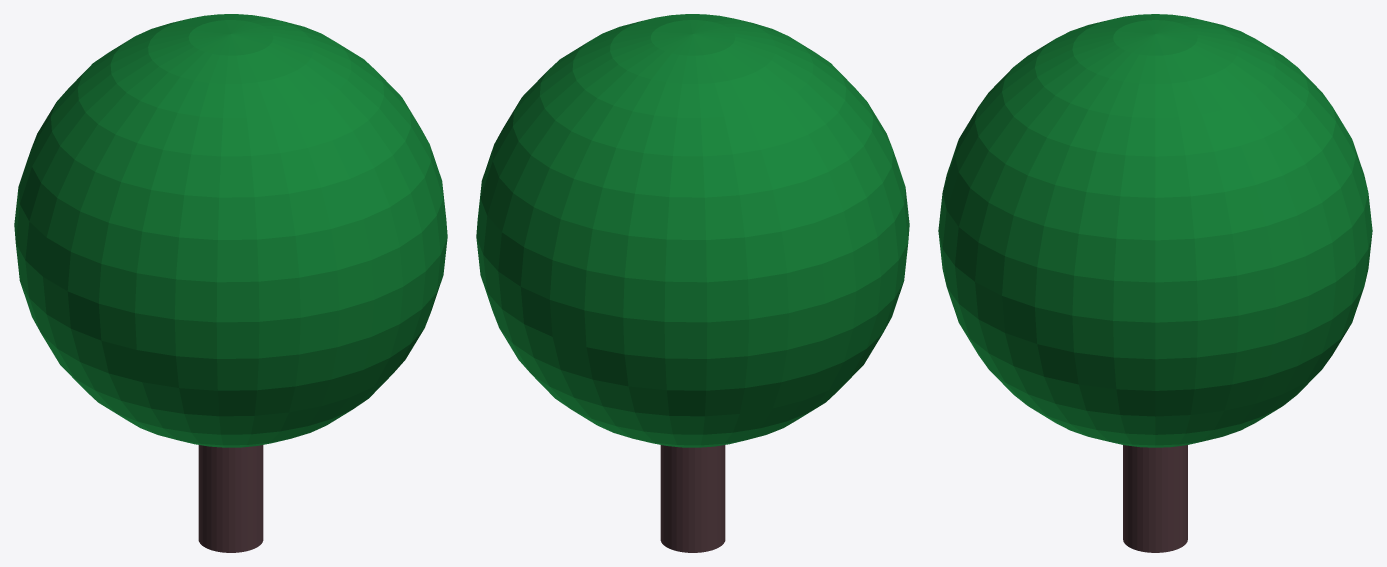
The model's file is tree_1.fbx.
The picture shows the model from 3 angles, left to right: view 1: azimuth 30°, elevation 25°; view 2: azimuth 150°, elevation 25°; view 3: azimuth 270°, elevation 25°; orthographic projection.
Parts seen in each view (by area): view 1: Cylinder; view 2: Cylinder; view 3: Cylinder.
Part boxes in pixels (x1,y1,x2,y2): Cylinder: [14, 14, 447, 552]; Cylinder: [476, 14, 909, 552]; Cylinder: [938, 14, 1372, 552].
Size of the model in its own units: 185 by 237 by 185.
